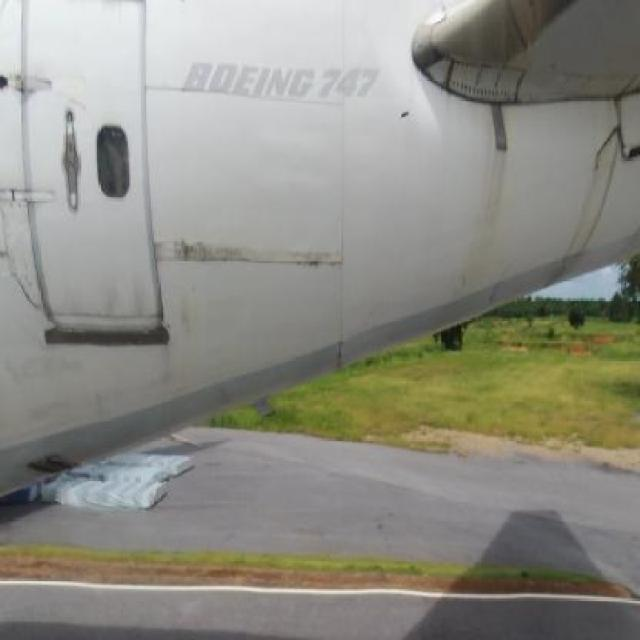Missing-Rivet: (437, 50, 598, 104)
Rust: (450, 105, 532, 312), (564, 118, 622, 288), (158, 228, 262, 294), (6, 354, 92, 423), (508, 1, 570, 52), (282, 237, 342, 283), (64, 83, 91, 114)
